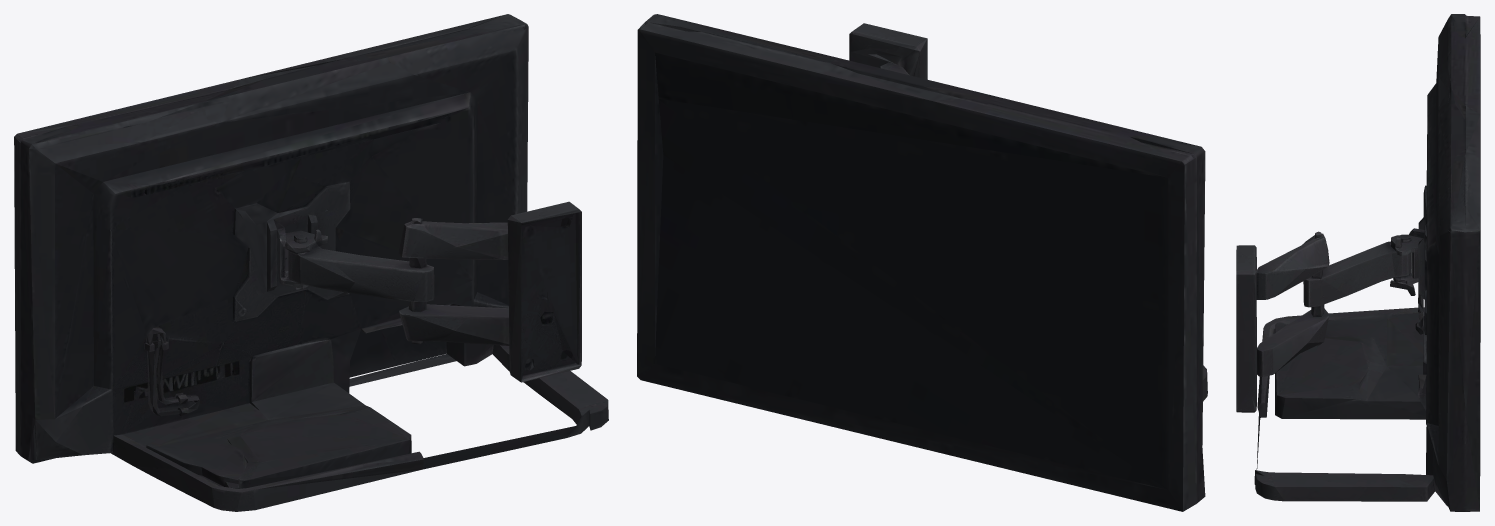
3 renders of one model, left to right at view 1: azimuth 30°, elevation 25°; view 2: azimuth 150°, elevation 25°; view 3: azimuth 270°, elevation 25°, orthographic. The views are drawn at different scales.
Size of the model in its own units: 1.9 by 1.17 by 0.905.
1 material, 1 textured.
